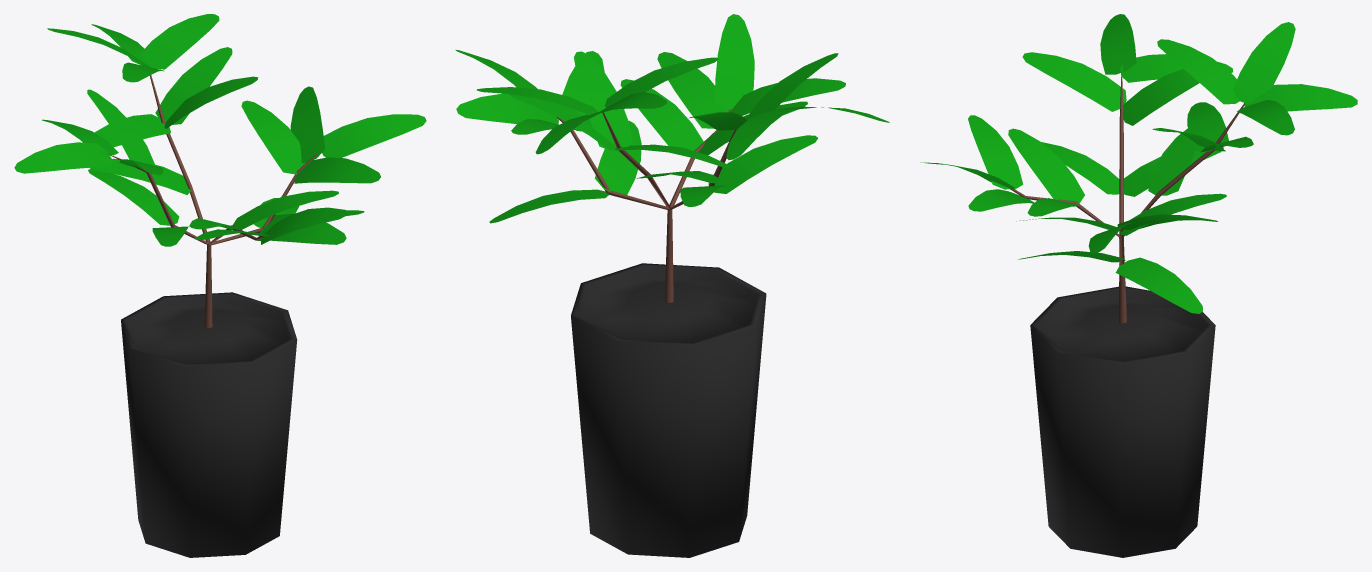
File: Planta.fbx
The picture shows the model from 3 angles, left to right: view 1: azimuth 30°, elevation 25°; view 2: azimuth 150°, elevation 25°; view 3: azimuth 270°, elevation 25°; orthographic projection. The views are drawn at different scales.
Visible parts, largest first — view 1: Cilindro.008; view 2: Cilindro.008; view 3: Cilindro.008.
Boxes of the visible parts, x1,y1,x2,y2 form: Cilindro.008: (14, 14, 426, 557); Cilindro.008: (455, 14, 889, 557); Cilindro.008: (920, 14, 1357, 557).
Size of the model in its own units: 196 by 215 by 184.
